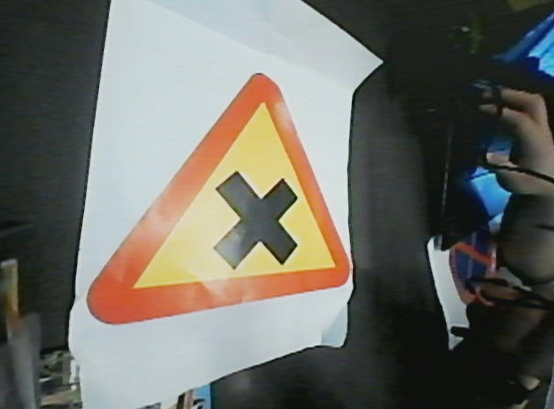junction: (80, 74, 373, 329)
